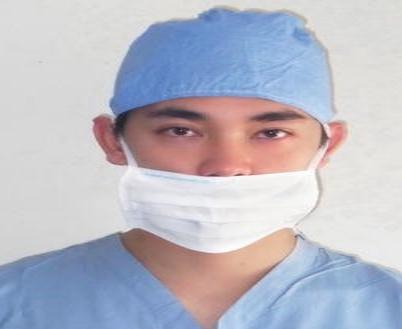mask_weared_incorrect: (97, 9, 350, 252)
